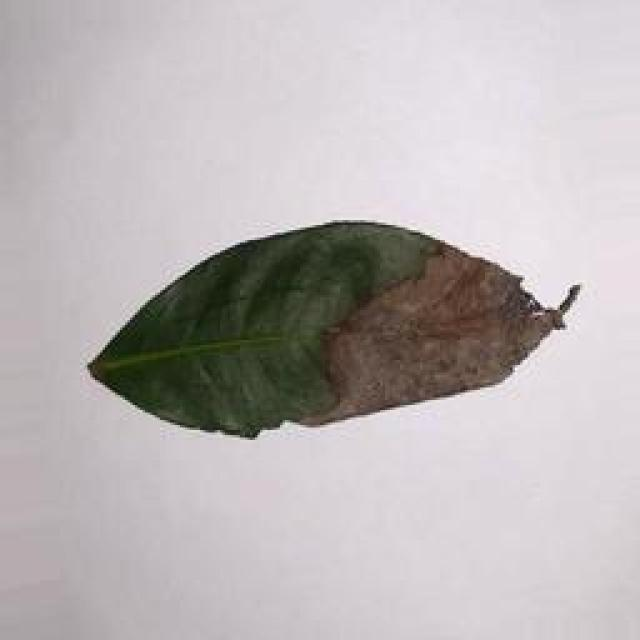Brown Blight: (64, 218, 583, 447)
